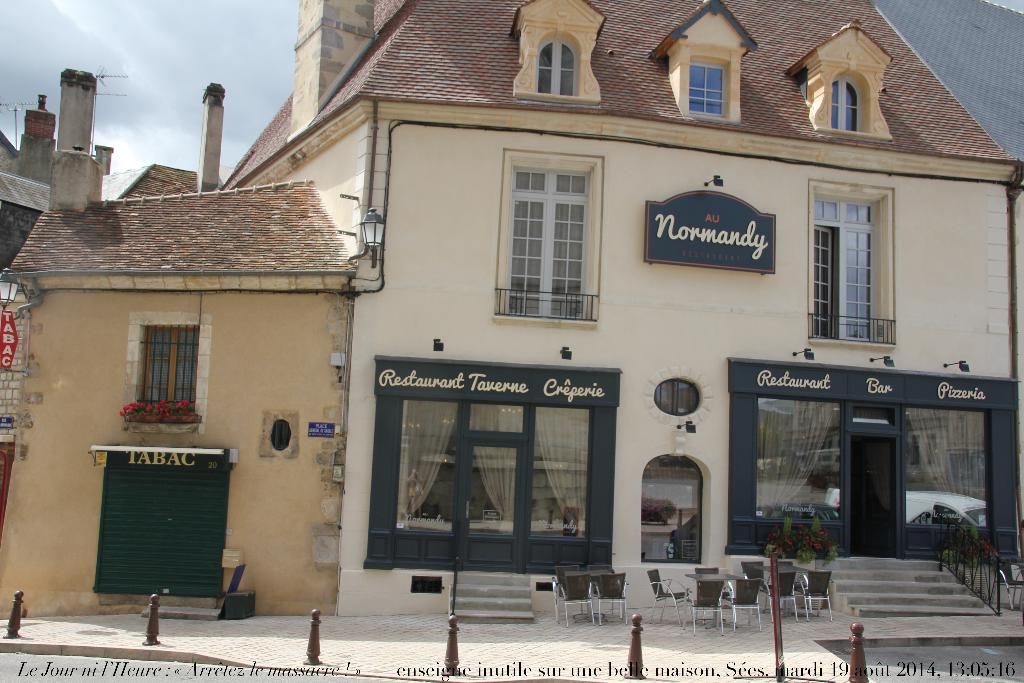door: (462, 433, 518, 567)
